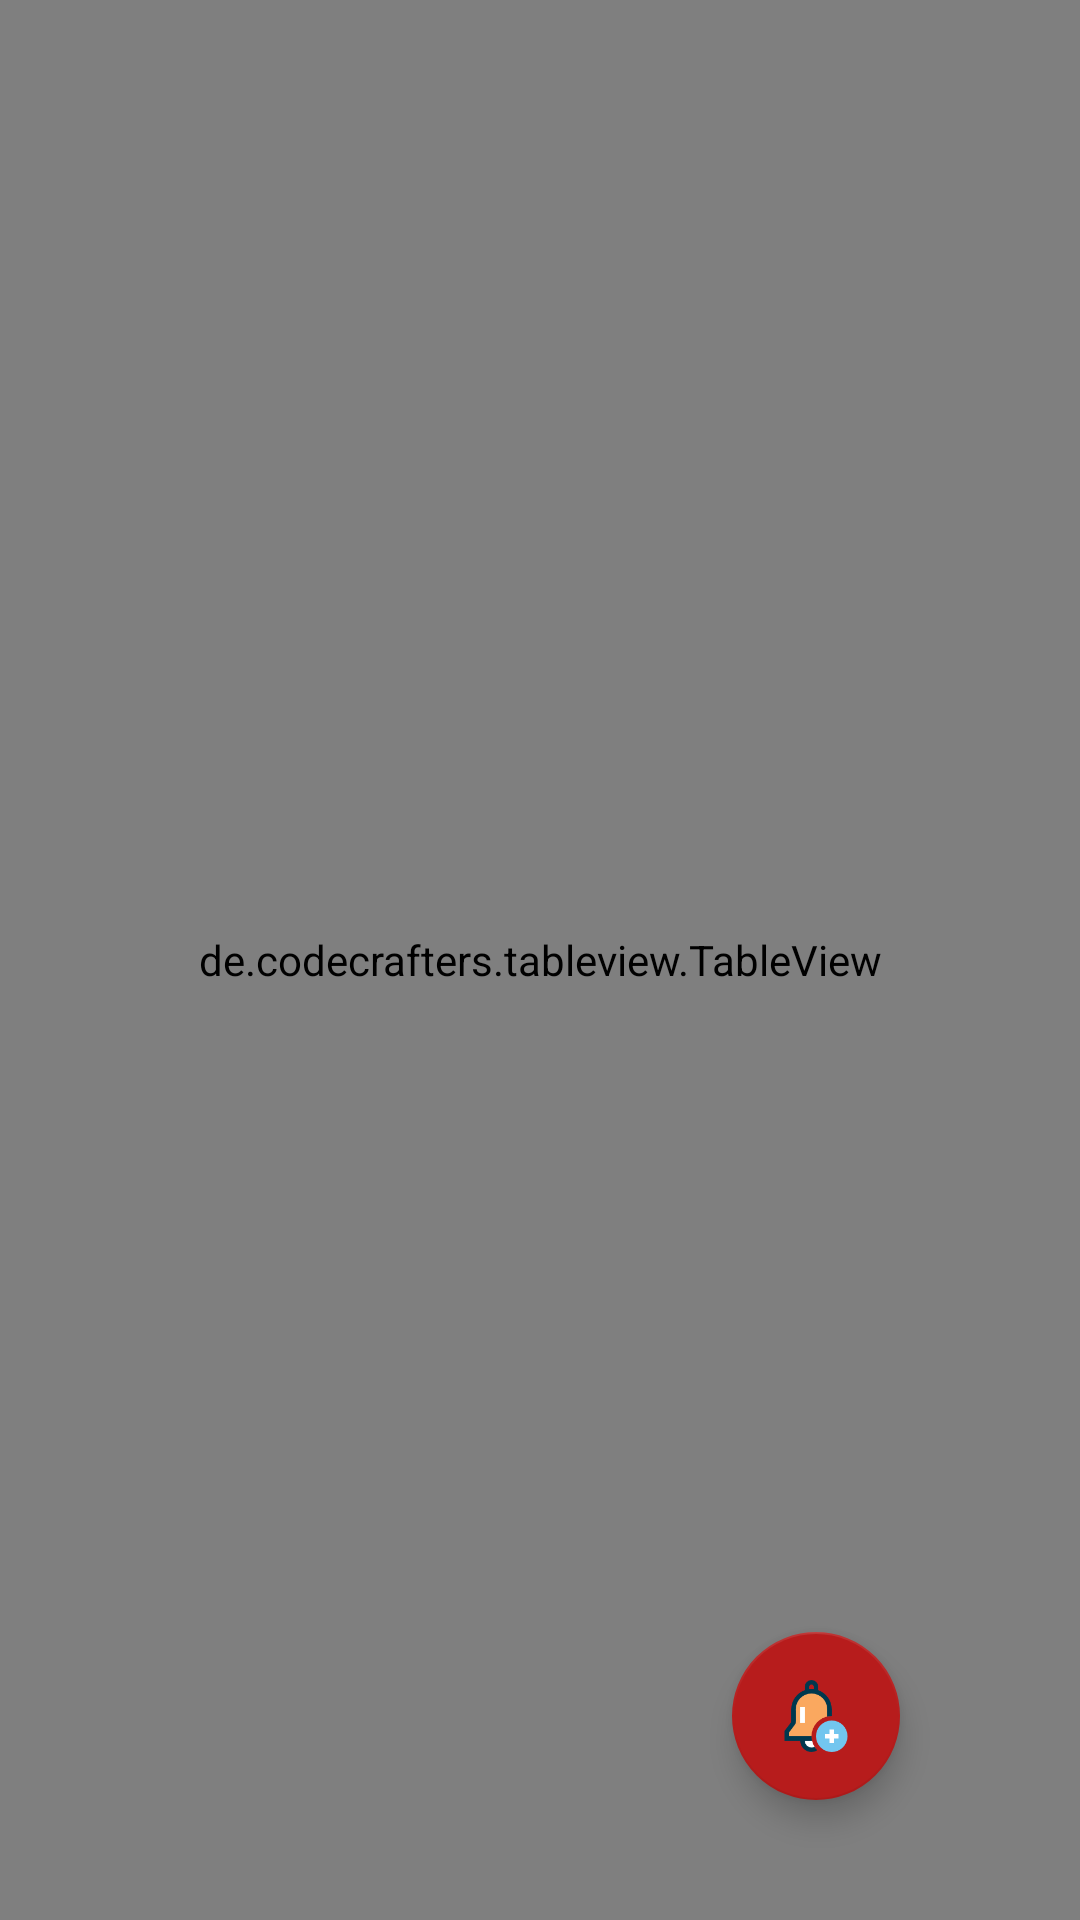

Icon bounding boxes for this 1080x1920 phone screenshot, format (x1, y1, x2, y2):
bell: (732, 1632, 900, 1800)
